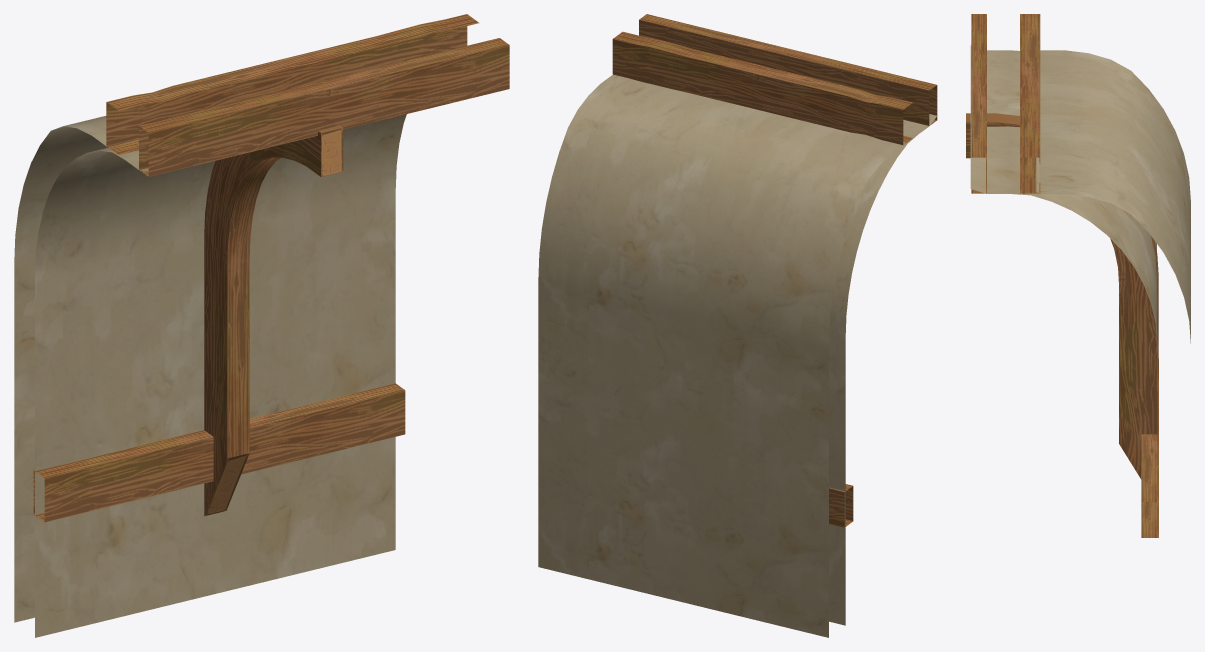
File: Overhang_Plaster_Short.gltf
The picture shows the model from 3 angles, left to right: view 1: azimuth 30°, elevation 25°; view 2: azimuth 150°, elevation 25°; view 3: azimuth 270°, elevation 25°; orthographic projection. The views are drawn at different scales.
Visible parts, largest first — view 1: Overhang_Plaster_Short; view 2: Overhang_Plaster_Short; view 3: Overhang_Plaster_Short.
Boxes of the visible parts, x1,y1,x2,y2 form: Overhang_Plaster_Short: [14, 14, 509, 637]; Overhang_Plaster_Short: [538, 14, 937, 637]; Overhang_Plaster_Short: [966, 14, 1190, 537].
Bounding box in the file's own units: 2 × 3.12 × 1.32.
Materials: 2 (2 with a texture image).
